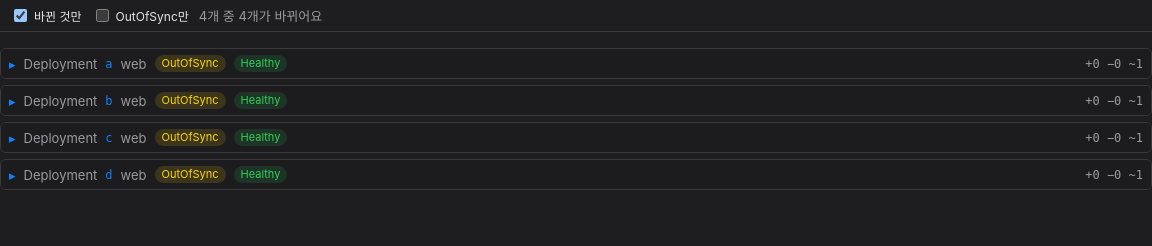
many changed resources start folded and open one at a time; a few start open
Expected: the text "a: new" is not shown
Click the button named "a diff 펼치기·접기".
click(12, 64)  # box [9,56,16,72]
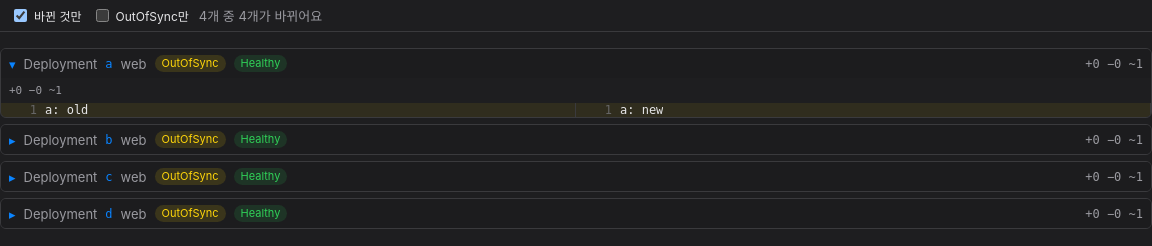
Now the text "a: new" is shown, box [620,103,663,117]
Click the button named "a diff 펼치기·접기".
click(12, 64)  # box [9,56,16,72]
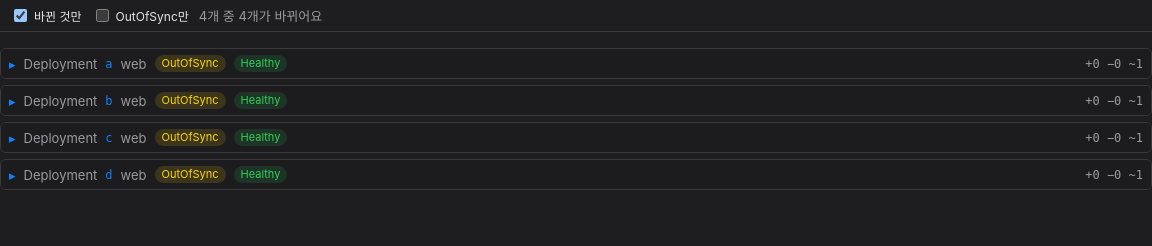
Now the text "a: new" is gone
